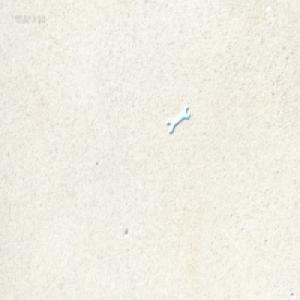Wrench: (167, 104, 189, 132)
